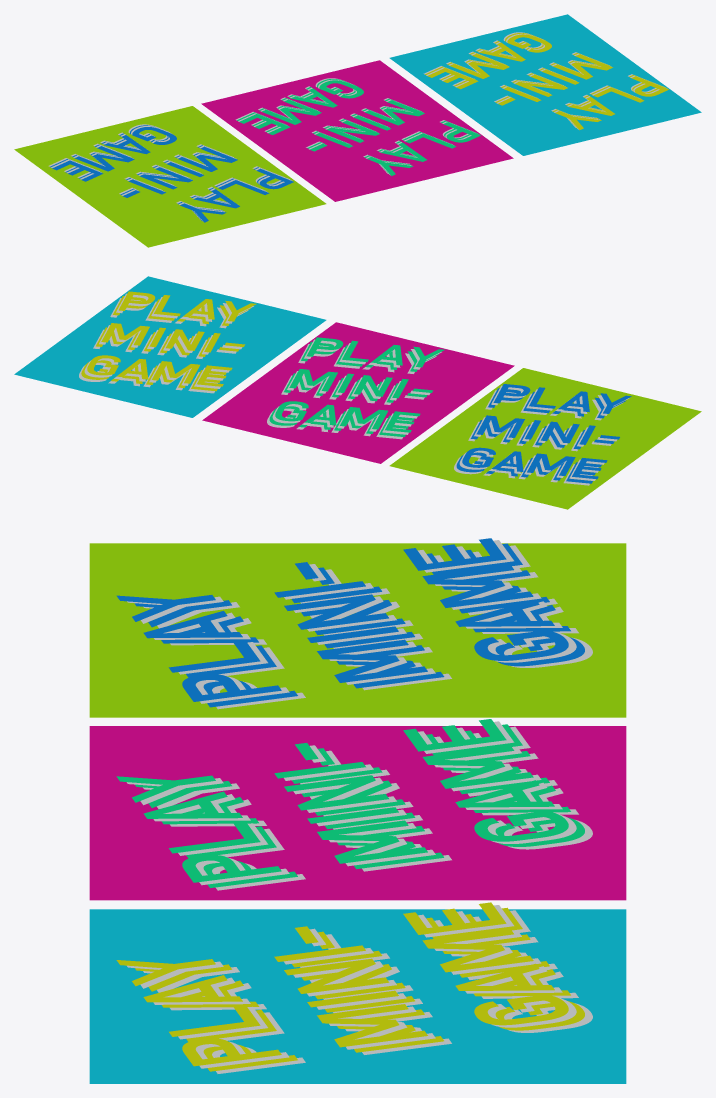
The model's file is PMGposter3.FBX.
3 views of the same model, one above another, from view 1: azimuth 30°, elevation 25°; view 2: azimuth 150°, elevation 25°; view 3: azimuth 270°, elevation 25° (orthographic). The views are drawn at different scales.
Parts seen in each view (by area): view 1: Plane.001, Plane, Plane.002, Text.010, Text.011, Text.009, Text.008, Text.003, Text, Text.001, Text.006, Text.007 (+3 smaller); view 2: Plane.002, Plane, Plane.001, Text.011, Text.010, Text.009, Text.002, Text, Text.001, Text.006, Text.007, Text.008 (+3 smaller); view 3: Plane.002, Plane, Plane.001, Text.009, Text.011, Text.010, Text.002, Text.007, Text.006, Text.001, Text, Text.008 (+3 smaller).
Part boxes in pixels (left/top/right/bottom): Plane.001: left=389, top=14, right=701, bottom=155; Plane: left=201, top=60, right=513, bottom=201; Plane.002: left=14, top=106, right=326, bottom=247; Text.010: left=427, top=34, right=668, bottom=130; Text.011: left=239, top=80, right=480, bottom=175; Text.009: left=52, top=127, right=293, bottom=222; Text.008: left=51, top=126, right=292, bottom=220; Text.003: left=48, top=124, right=290, bottom=219; Text: left=237, top=79, right=478, bottom=173; Text.001: left=425, top=33, right=666, bottom=128; Text.006: left=238, top=79, right=474, bottom=175; Text.007: left=426, top=33, right=667, bottom=129; Plane.002: left=389, top=368, right=701, bottom=509; Plane: left=202, top=322, right=514, bottom=463; Plane.001: left=14, top=276, right=326, bottom=417; Text.011: left=275, top=337, right=444, bottom=432; Text.010: left=87, top=291, right=256, bottom=386; Text.009: left=462, top=384, right=631, bottom=479; Text.002: left=456, top=388, right=626, bottom=483; Text: left=269, top=341, right=438, bottom=436; Text.001: left=81, top=296, right=250, bottom=391; Text.006: left=272, top=339, right=441, bottom=434; Text.007: left=84, top=293, right=253, bottom=388; Text.008: left=459, top=385, right=629, bottom=480; Plane.002: left=89, top=543, right=626, bottom=717; Plane: left=89, top=726, right=626, bottom=900; Plane.001: left=89, top=909, right=626, bottom=1083; Text.009: left=116, top=538, right=568, bottom=701; Text.011: left=116, top=719, right=568, bottom=882; Text.010: left=116, top=902, right=568, bottom=1066; Text.002: left=134, top=543, right=584, bottom=707; Text.007: left=127, top=905, right=576, bottom=1068; Text.006: left=126, top=721, right=576, bottom=885; Text.001: left=135, top=907, right=584, bottom=1071; Text: left=135, top=724, right=584, bottom=888; Text.008: left=127, top=540, right=576, bottom=703.
Size of the model in its own units: 8.36 by 0.08 by 3.51.
